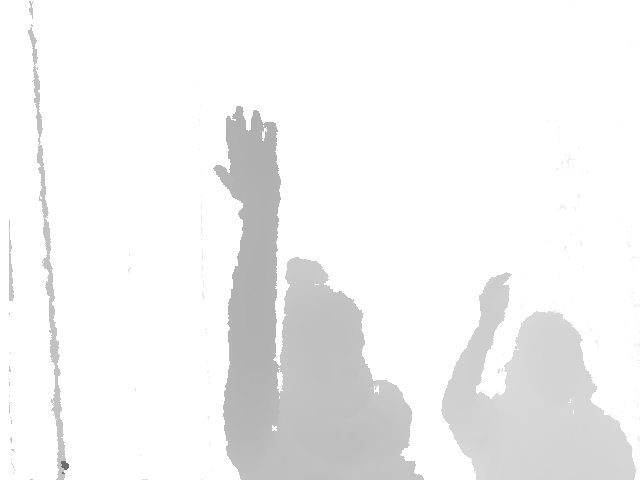hand: (213, 106, 286, 217), (474, 269, 513, 330)
head: (271, 252, 377, 405), (504, 310, 594, 406)
person: (210, 106, 424, 480), (437, 269, 637, 480)
